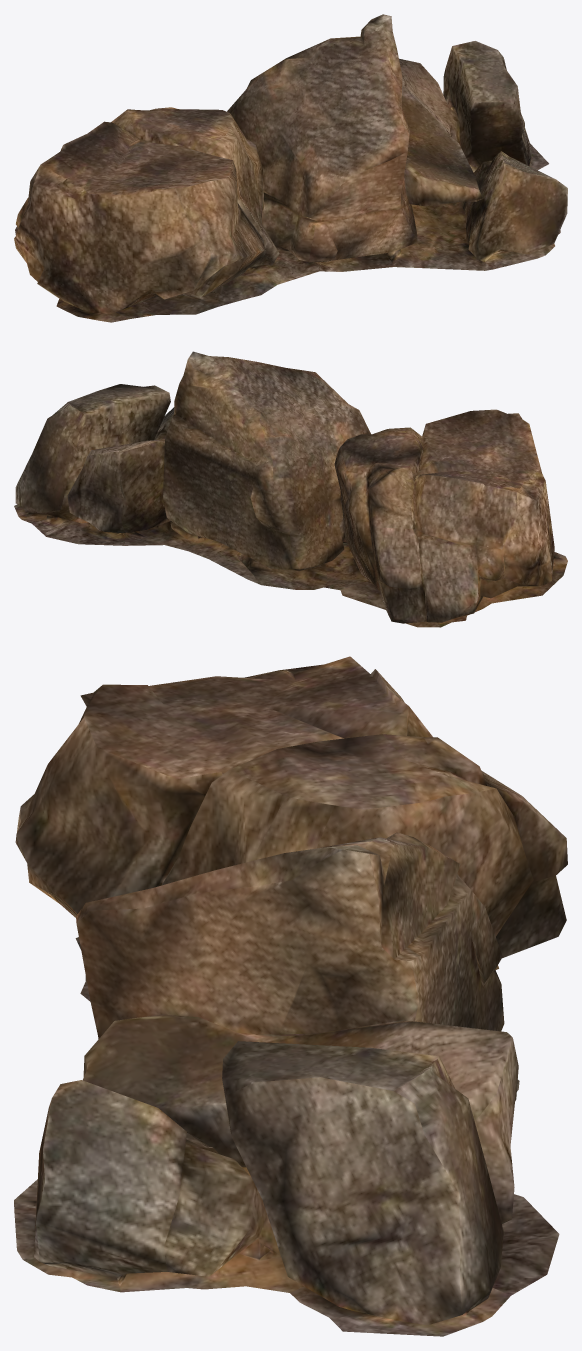
The model's file is namaqualand_boulder_02_lod1.glb.
The picture shows the model from 3 angles, top to bottom: view 1: azimuth 30°, elevation 25°; view 2: azimuth 150°, elevation 25°; view 3: azimuth 270°, elevation 25°; orthographic projection. The views are drawn at different scales.
Visible parts, largest first — view 1: boulder_02; view 2: boulder_02; view 3: boulder_02.
Boxes of the visible parts, <box> form: boulder_02: <box>14,14,567,322</box>; boulder_02: <box>14,351,567,627</box>; boulder_02: <box>14,656,567,1336</box>.
Size of the model in its own units: 2.51 by 0.8788 by 1.23.
Materials: 1 (1 with a texture image).
